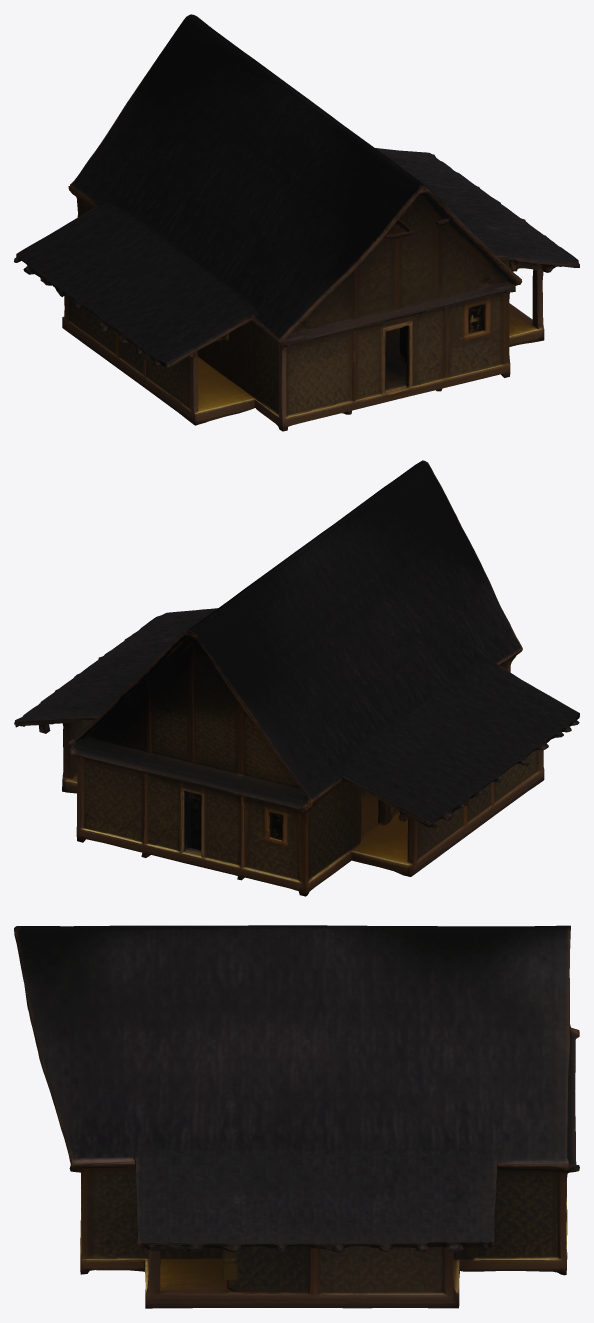
Rendered from banten.glb.
3 renders of one model, top to bottom at view 1: azimuth 30°, elevation 25°; view 2: azimuth 150°, elevation 25°; view 3: azimuth 270°, elevation 25°, orthographic. The views are drawn at different scales.
Parts seen in each view (by area): view 1: world; view 2: world; view 3: world.
Part boxes in pixels (bbox=[...]): world: bbox=[14, 14, 579, 431]; world: bbox=[14, 460, 579, 896]; world: bbox=[14, 925, 579, 1308].
Size of the model in its own units: 0.541 by 0.2898 by 0.5242.
1 material, 1 textured.
